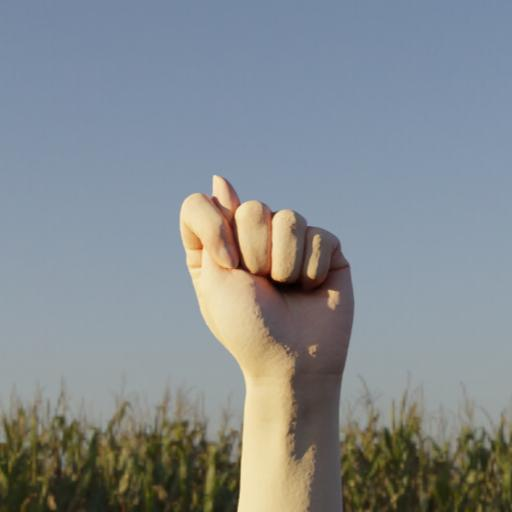T: (170, 158, 366, 382)
